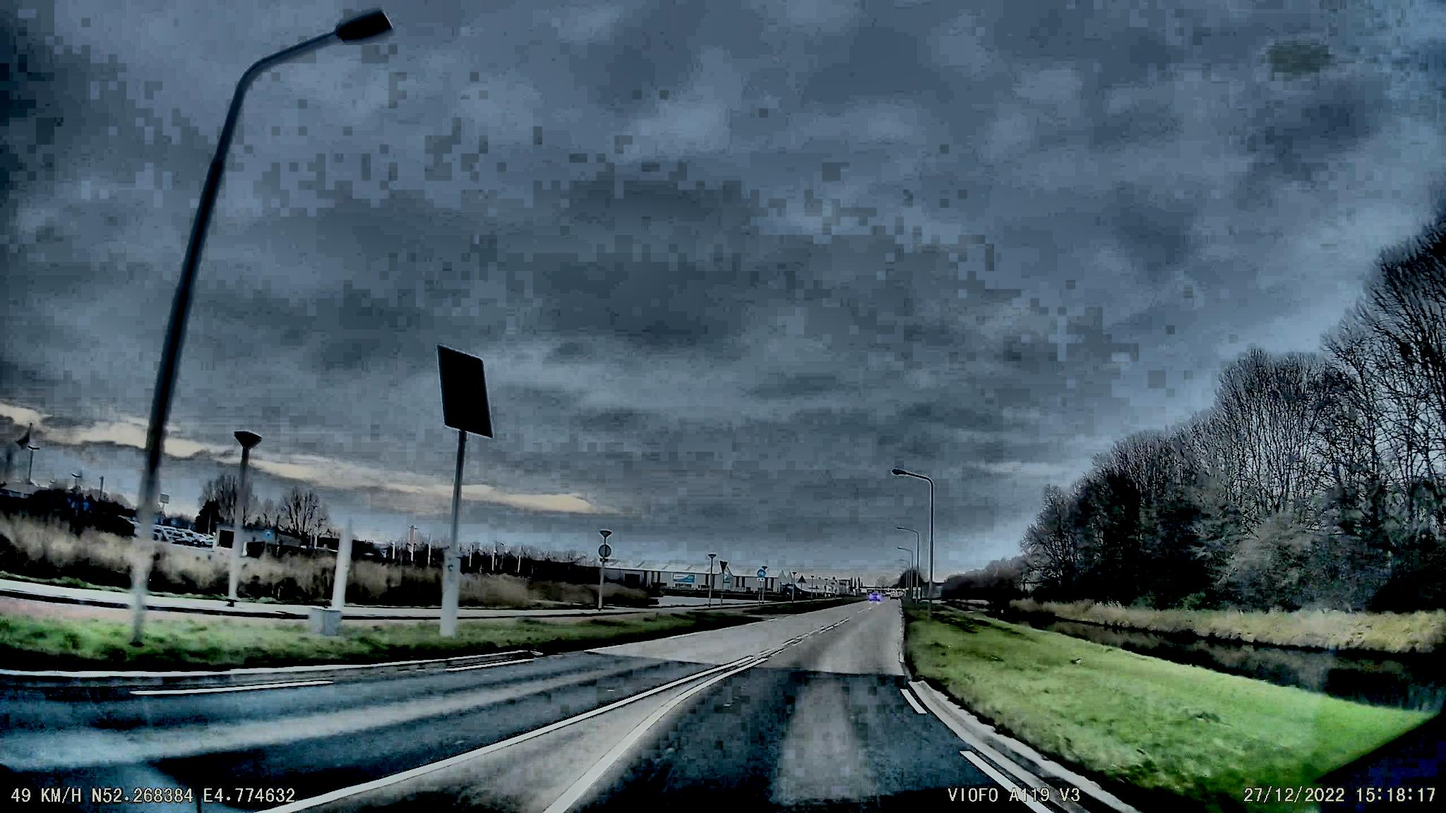Roads: (0, 607, 1149, 813)
